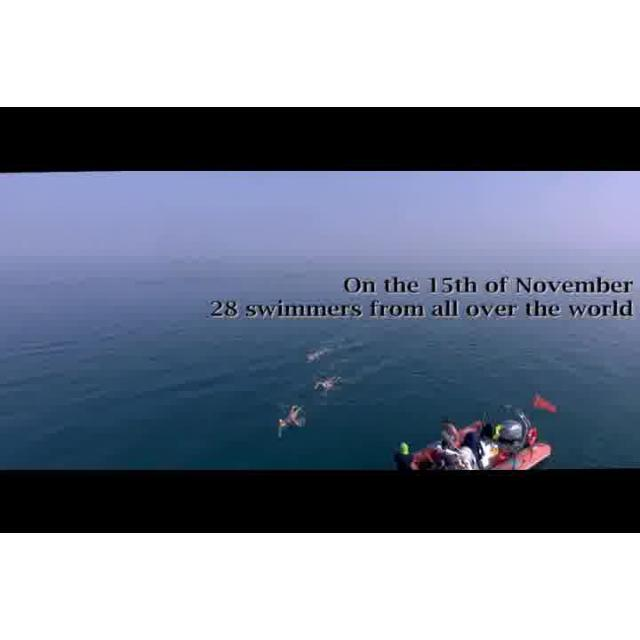human: (279, 402, 304, 438), (312, 375, 342, 395)
